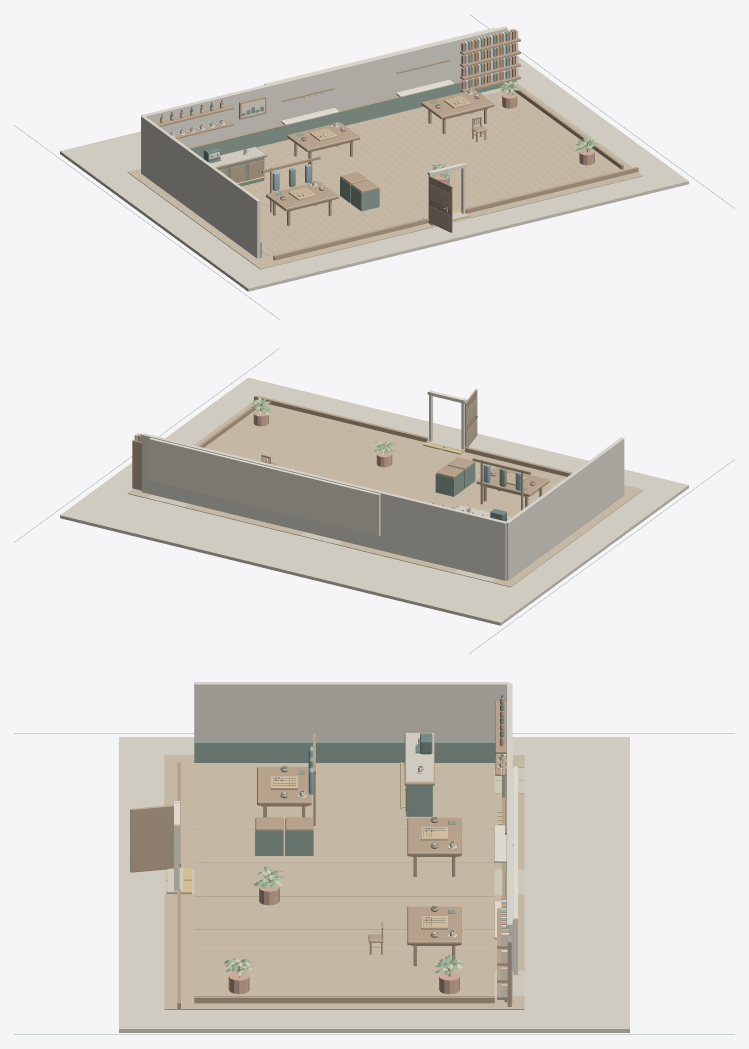
Rendered from room.glb.
3 views of the same model, one above another, from view 1: azimuth 30°, elevation 25°; view 2: azimuth 150°, elevation 25°; view 3: azimuth 270°, elevation 25° (orthographic). The views are drawn at different scales.
Parts seen in each view (by area): view 1: Kettle_floor, Kettle_stone, Kettle_plaster, Kettle_wood, Kettle_cloth, Kettle_cream, Kettle_blue, Kettle_red, Kettle_amber, Kettle_metal, Kettle_board, Kettle_terra (+1 smaller); view 2: Kettle_stone, Kettle_plaster, Kettle_floor, Kettle_cream, Kettle_wood, Kettle_cloth, Kettle_paving, Kettle_metal; view 3: Kettle_floor, Kettle_stone, Kettle_plaster, Kettle_wood, Kettle_cloth, Kettle_cream, Kettle_metal, Kettle_terra, Kettle_paving, Kettle_board, Kettle_leaf_leaf_light, Kettle_amber.
Boxes of the visible parts, box(x1,y1,x2,y2) form: Kettle_floor: box(127, 82, 643, 269); Kettle_stone: box(60, 56, 688, 291); Kettle_plaster: box(141, 26, 507, 258); Kettle_wood: box(154, 38, 638, 260); Kettle_cloth: box(161, 82, 508, 257); Kettle_cream: box(161, 27, 518, 213); Kettle_blue: box(272, 31, 508, 190); Kettle_red: box(461, 29, 514, 89); Kettle_amber: box(223, 30, 511, 225); Kettle_metal: box(14, 14, 734, 319); Kettle_board: box(288, 95, 471, 200); Kettle_terra: box(160, 92, 594, 184); Kettle_stone: box(60, 377, 688, 625); Kettle_plaster: box(141, 433, 624, 580); Kettle_floor: box(127, 396, 643, 587); Kettle_cream: box(134, 390, 491, 536); Kettle_wood: box(132, 389, 571, 510); Kettle_cloth: box(432, 462, 527, 518); Kettle_paving: box(147, 445, 495, 582); Kettle_metal: box(14, 348, 734, 653); Kettle_floor: box(164, 755, 524, 1009); Kettle_stone: box(119, 733, 629, 1032); Kettle_plaster: box(194, 682, 512, 1002); Kettle_wood: box(130, 701, 511, 1008); Kettle_cloth: box(194, 694, 506, 1002); Kettle_cream: box(174, 736, 517, 996); Kettle_metal: box(14, 733, 734, 1034); Kettle_terra: box(228, 697, 504, 994); Kettle_paving: box(164, 768, 524, 996); Kettle_board: box(271, 776, 447, 929); Kettle_leaf_leaf_light: box(224, 866, 463, 977); Kettle_amber: box(166, 762, 508, 930).
Size of what is drawn, in the model's own units: 19.01 by 2.45 by 19.2.
